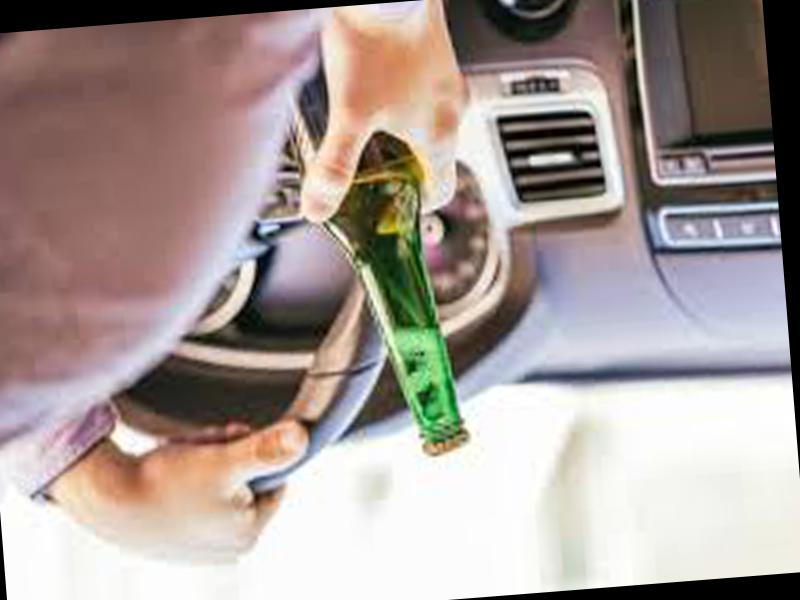Beer: (284, 44, 473, 468)
